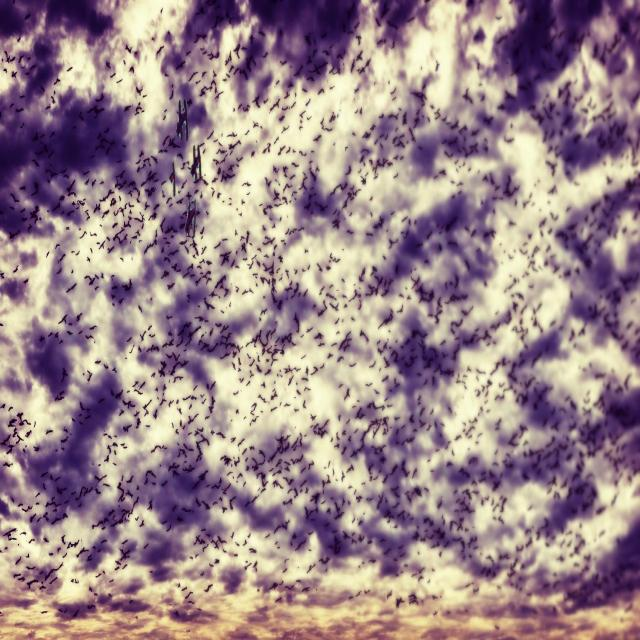airplane: (175, 98, 189, 141), (184, 199, 197, 238), (190, 142, 202, 180), (169, 163, 176, 198)
